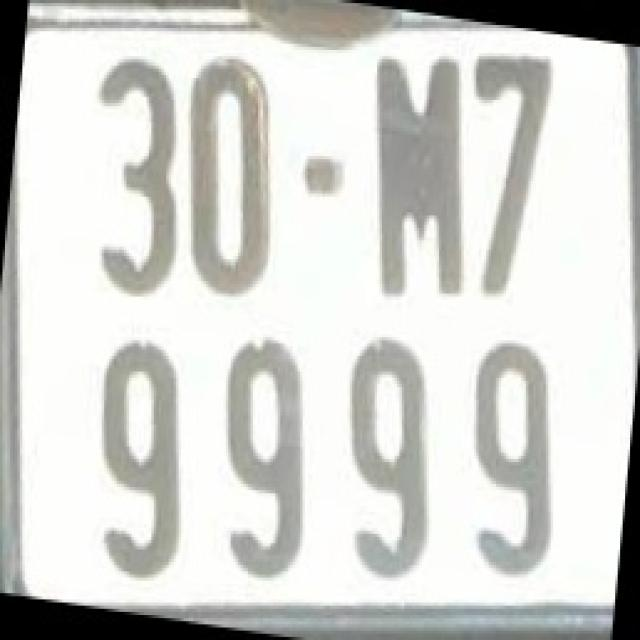0: (185, 53, 276, 297)
3: (94, 53, 181, 294)
7: (472, 47, 554, 300)
9: (465, 334, 559, 578), (344, 331, 436, 577), (94, 332, 186, 576), (220, 331, 308, 577)
M: (371, 46, 465, 296)
